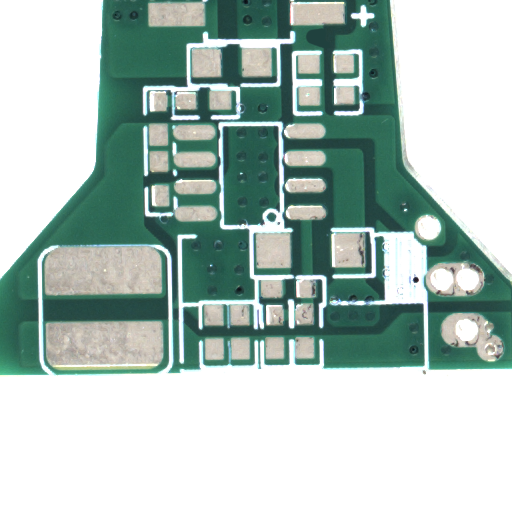Mouse_bite: (316, 38, 335, 57)
